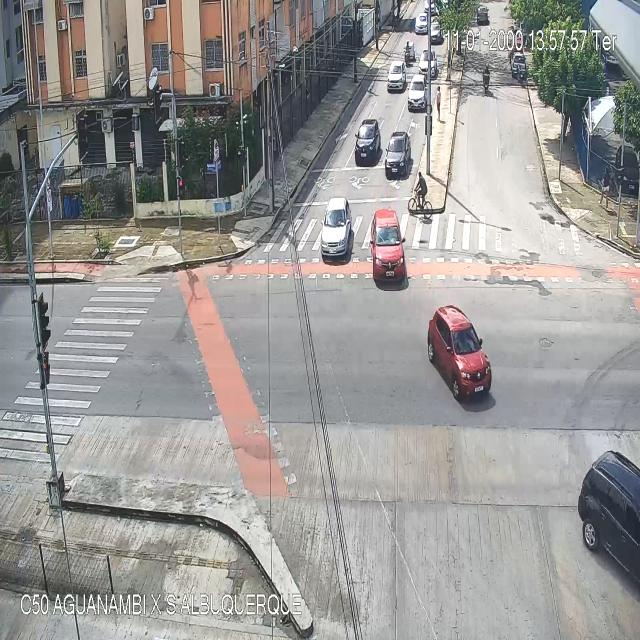Car: (578, 450, 640, 586), (428, 306, 493, 402), (371, 207, 406, 290), (322, 197, 352, 260), (384, 134, 411, 176), (355, 120, 381, 160), (386, 58, 409, 93), (408, 76, 428, 111), (420, 49, 438, 78), (510, 50, 526, 76), (429, 21, 441, 42), (477, 4, 489, 24), (415, 14, 428, 32)
Motorcycle: (483, 63, 491, 97), (515, 63, 524, 84), (406, 44, 412, 66)
